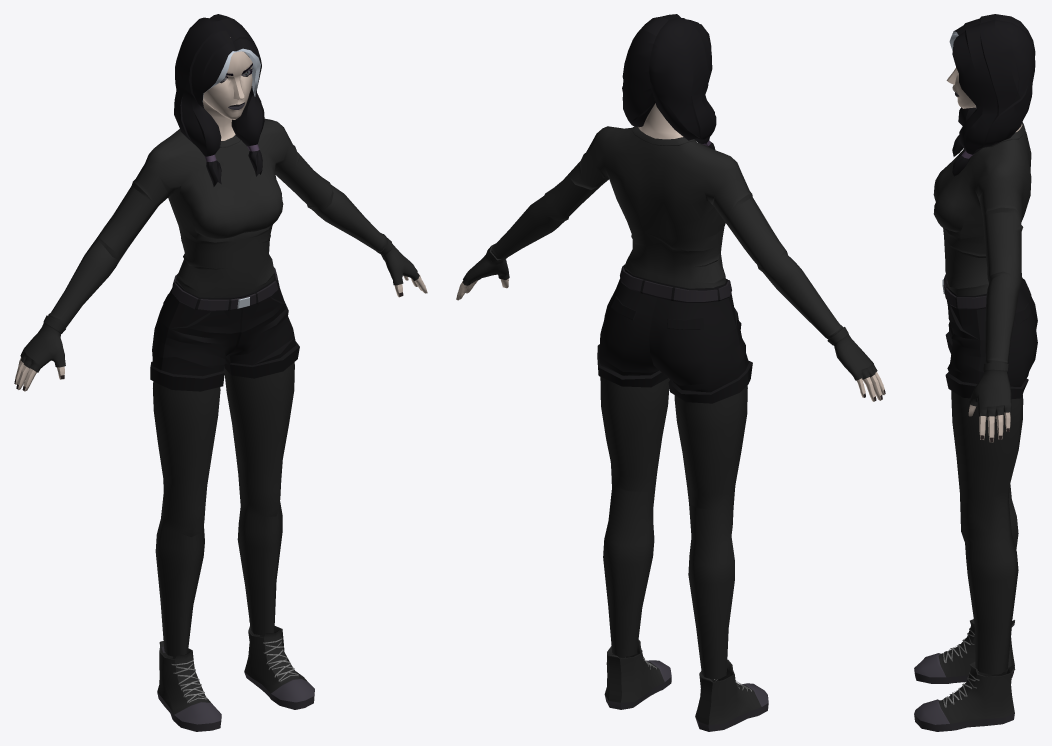
Rendered from female 3.fbx.
The picture shows the model from 3 angles, left to right: view 1: azimuth 30°, elevation 25°; view 2: azimuth 150°, elevation 25°; view 3: azimuth 270°, elevation 25°; orthographic projection. The views are drawn at different scales.
Parts seen in each view (by area): view 1: 8; view 2: 8; view 3: 8.
Boxes of the visible parts, left/top/right/bottom form: 8: left=14, top=14, right=427, bottom=731; 8: left=456, top=14, right=885, bottom=731; 8: left=914, top=14, right=1037, bottom=731.
Bounding box in the file's own units: 1.17 × 1.84 × 0.3033.
